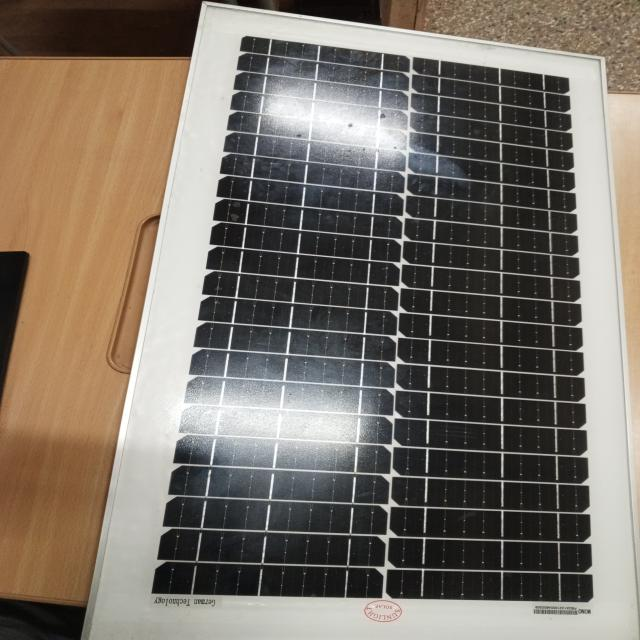Clean: (234, 24, 601, 611)
